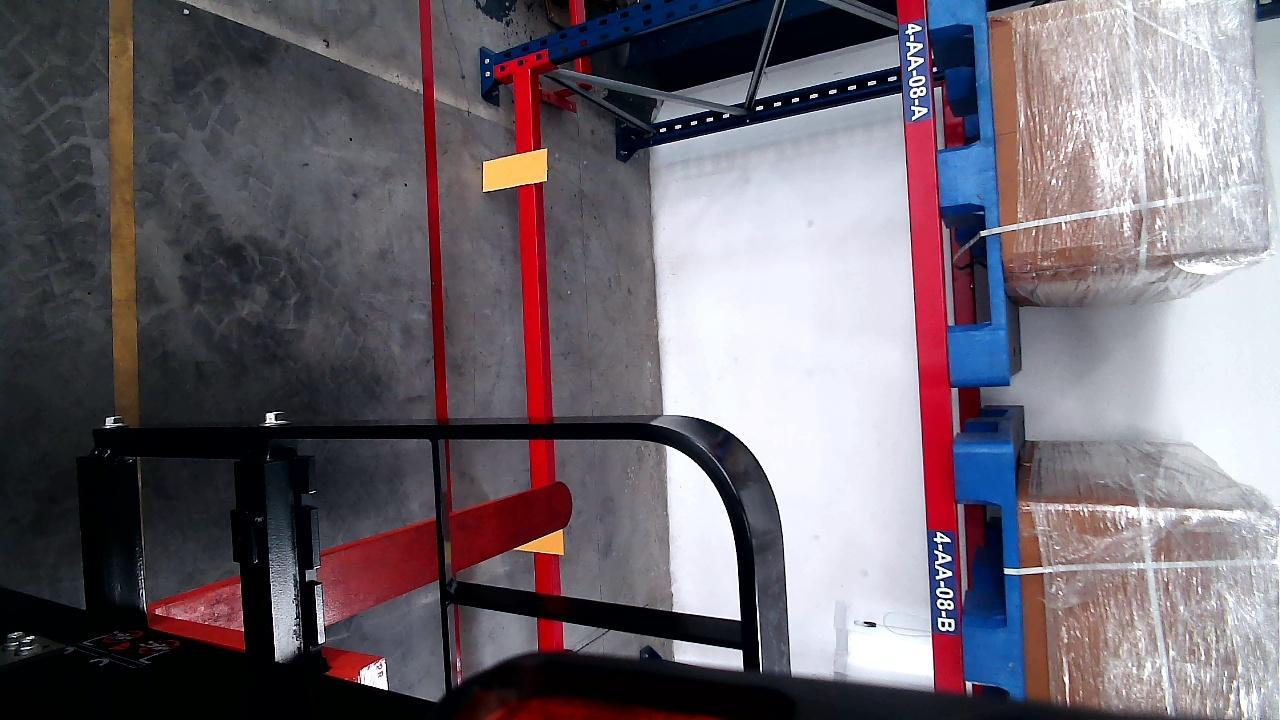red_line: (421, 0, 448, 416)
yellow_line: (109, 0, 139, 424)
